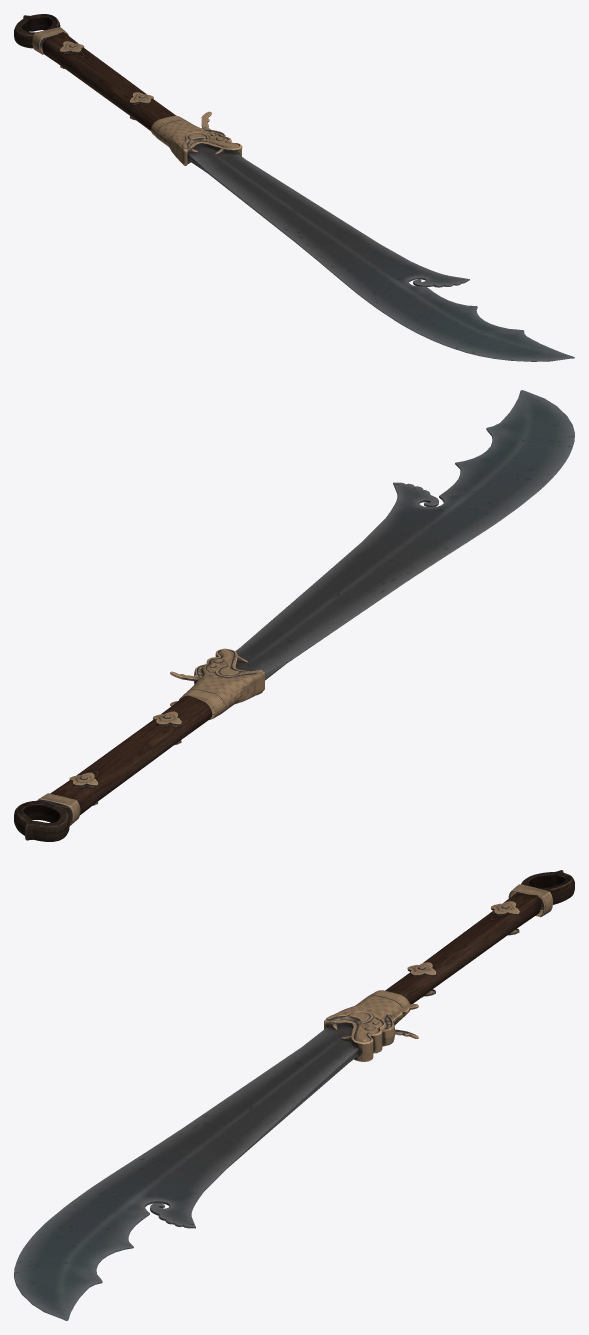
File: SiMiaoBoss_Weapon.fbx
3 views of the same model, one above another, from view 1: azimuth 30°, elevation 25°; view 2: azimuth 150°, elevation 25°; view 3: azimuth 330°, elevation 25° (orthographic). The views are drawn at different scales.
Visible parts, largest first — view 1: 3D_SiMiaoBoss_Dao.mo; view 2: 3D_SiMiaoBoss_Dao.mo; view 3: 3D_SiMiaoBoss_Dao.mo.
Boxes of the visible parts, box(x1,y1,x2,y2) form: 3D_SiMiaoBoss_Dao.mo: box(14, 14, 574, 361); 3D_SiMiaoBoss_Dao.mo: box(14, 390, 574, 841); 3D_SiMiaoBoss_Dao.mo: box(14, 870, 574, 1320).
Bounding box in the file's own units: 48.54 × 13.26 × 407.
